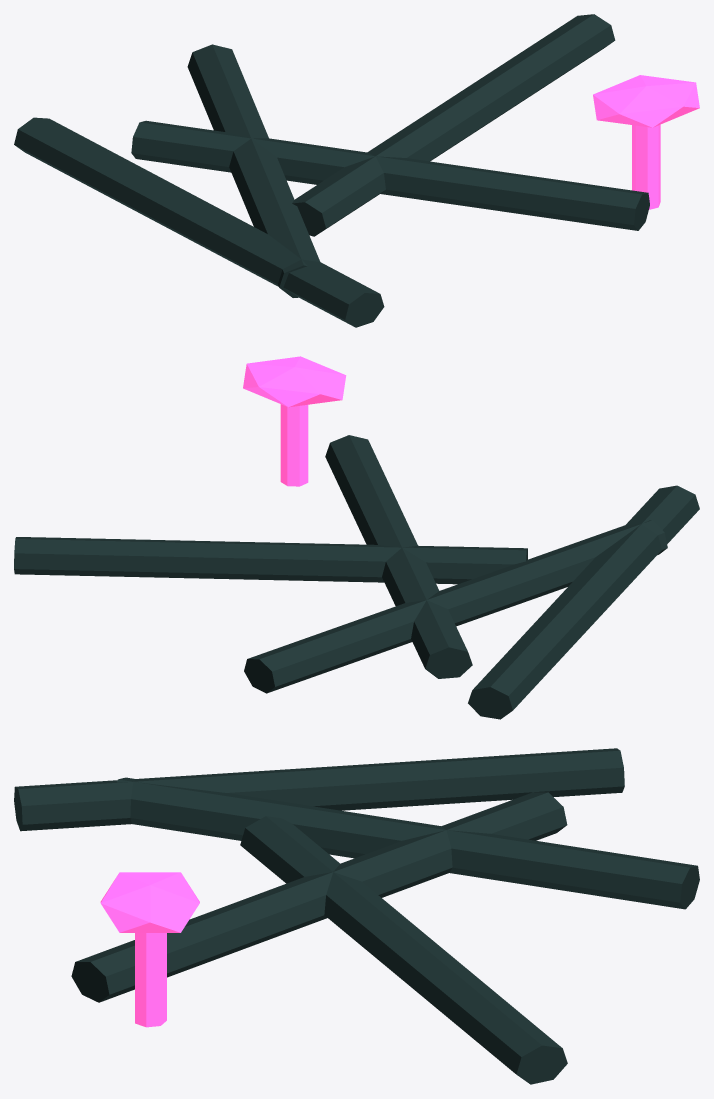
File: df_v2_road_edge_roots_a.glb
The picture shows the model from 3 angles, top to bottom: view 1: azimuth 30°, elevation 25°; view 2: azimuth 150°, elevation 25°; view 3: azimuth 270°, elevation 25°; orthographic projection. The views are drawn at different scales.
Visible parts, largest first — view 1: road_edge_root_2, road_edge_root_0, road_edge_root_3, road_edge_root_1, road_edge_glow_cap, road_edge_glow_stem; view 2: road_edge_root_3, road_edge_root_1, road_edge_root_0, road_edge_root_2, road_edge_glow_cap, road_edge_glow_stem; view 3: road_edge_root_0, road_edge_root_1, road_edge_root_2, road_edge_root_3, road_edge_glow_cap, road_edge_glow_stem.
Part boxes in pixels (x1=…): road_edge_root_2: x1=131, y1=120, x2=649, y2=230; road_edge_root_0: x1=14, y1=117, x2=384, y2=327; road_edge_root_3: x1=292, y1=14, x2=615, y2=236; road_edge_root_1: x1=187, y1=44, x2=320, y2=297; road_edge_glow_cap: x1=593, y1=75, x2=699, y2=127; road_edge_glow_stem: x1=632, y1=124, x2=660, y2=209; road_edge_root_3: x1=14, y1=537, x2=527, y2=584; road_edge_root_1: x1=244, y1=520, x2=667, y2=693; road_edge_root_0: x1=468, y1=485, x2=699, y2=719; road_edge_root_2: x1=325, y1=435, x2=472, y2=678; road_edge_glow_cap: x1=243, y1=356, x2=346, y2=407; road_edge_glow_stem: x1=280, y1=404, x2=308, y2=486; road_edge_root_0: x1=14, y1=748, x2=624, y2=831; road_edge_root_1: x1=117, y1=777, x2=699, y2=909; road_edge_root_2: x1=71, y1=792, x2=567, y2=1002; road_edge_root_3: x1=240, y1=816, x2=567, y2=1084; road_edge_glow_cap: x1=100, y1=872, x2=199, y2=932; road_edge_glow_stem: x1=135, y1=933, x2=166, y2=1027.
Size of the model in its own units: 0.8738 by 0.1765 by 0.8109.
